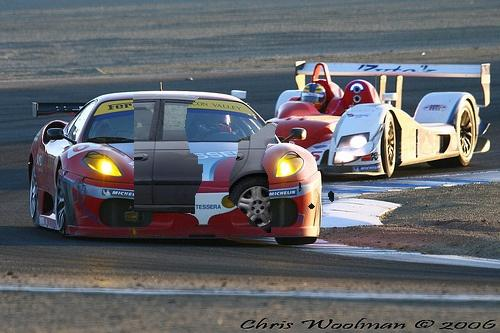tampered: (134, 95, 334, 233)
